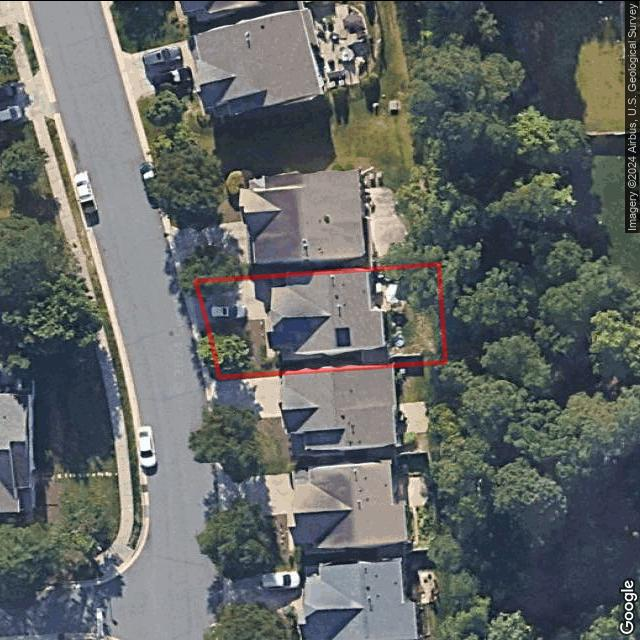Driveway: (195, 274, 284, 323)
Extra-Driveway: (186, 283, 207, 329)
Extra-Lawn: (200, 323, 220, 379)
House: (267, 268, 386, 360)
Lawn: (195, 264, 445, 376)
Other: (369, 268, 408, 346), (361, 346, 420, 363)
Sidewalk: (265, 318, 278, 355)
